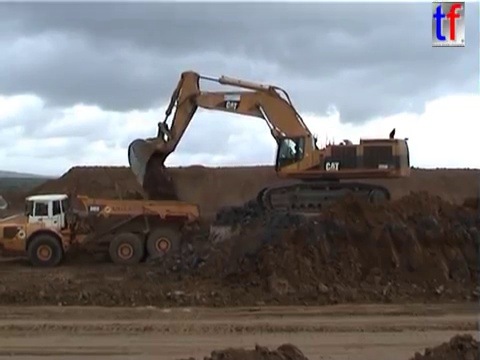excavator: (125, 68, 413, 218)
truck: (1, 191, 202, 269)
